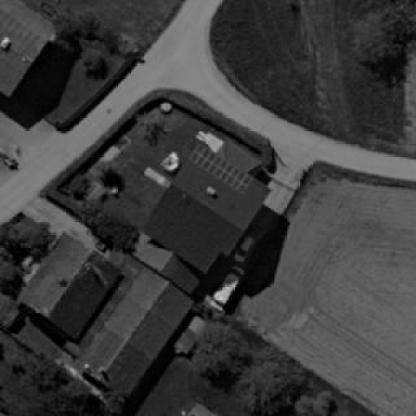solar-pv-panel: (189, 143, 252, 194)
